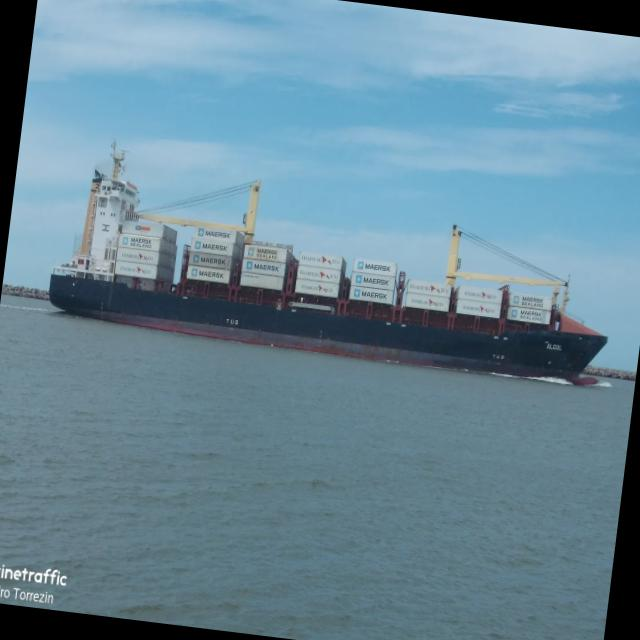Cargo: (49, 142, 606, 379)
